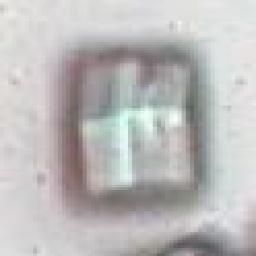crystals: (68, 45, 215, 210)
